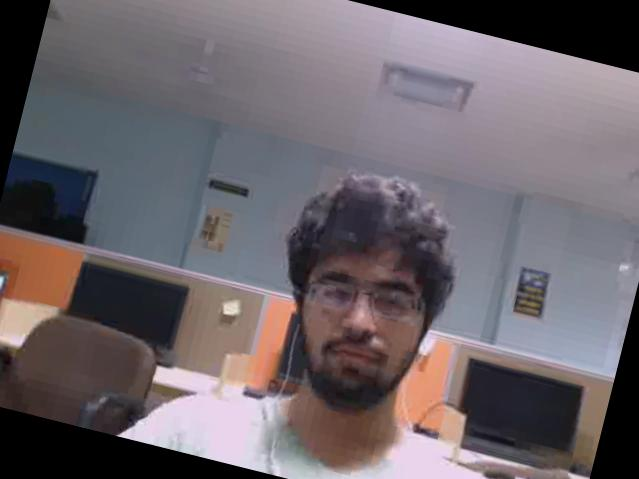bosan: (284, 230, 439, 402)
